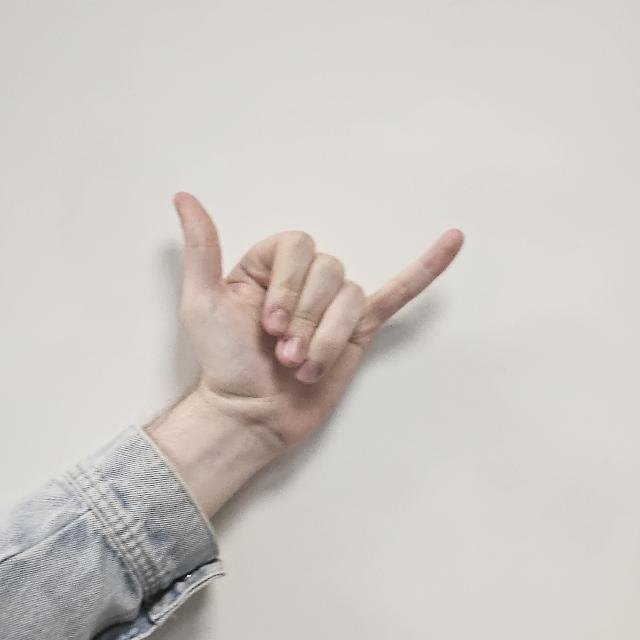Direita: (166, 184, 476, 453)
